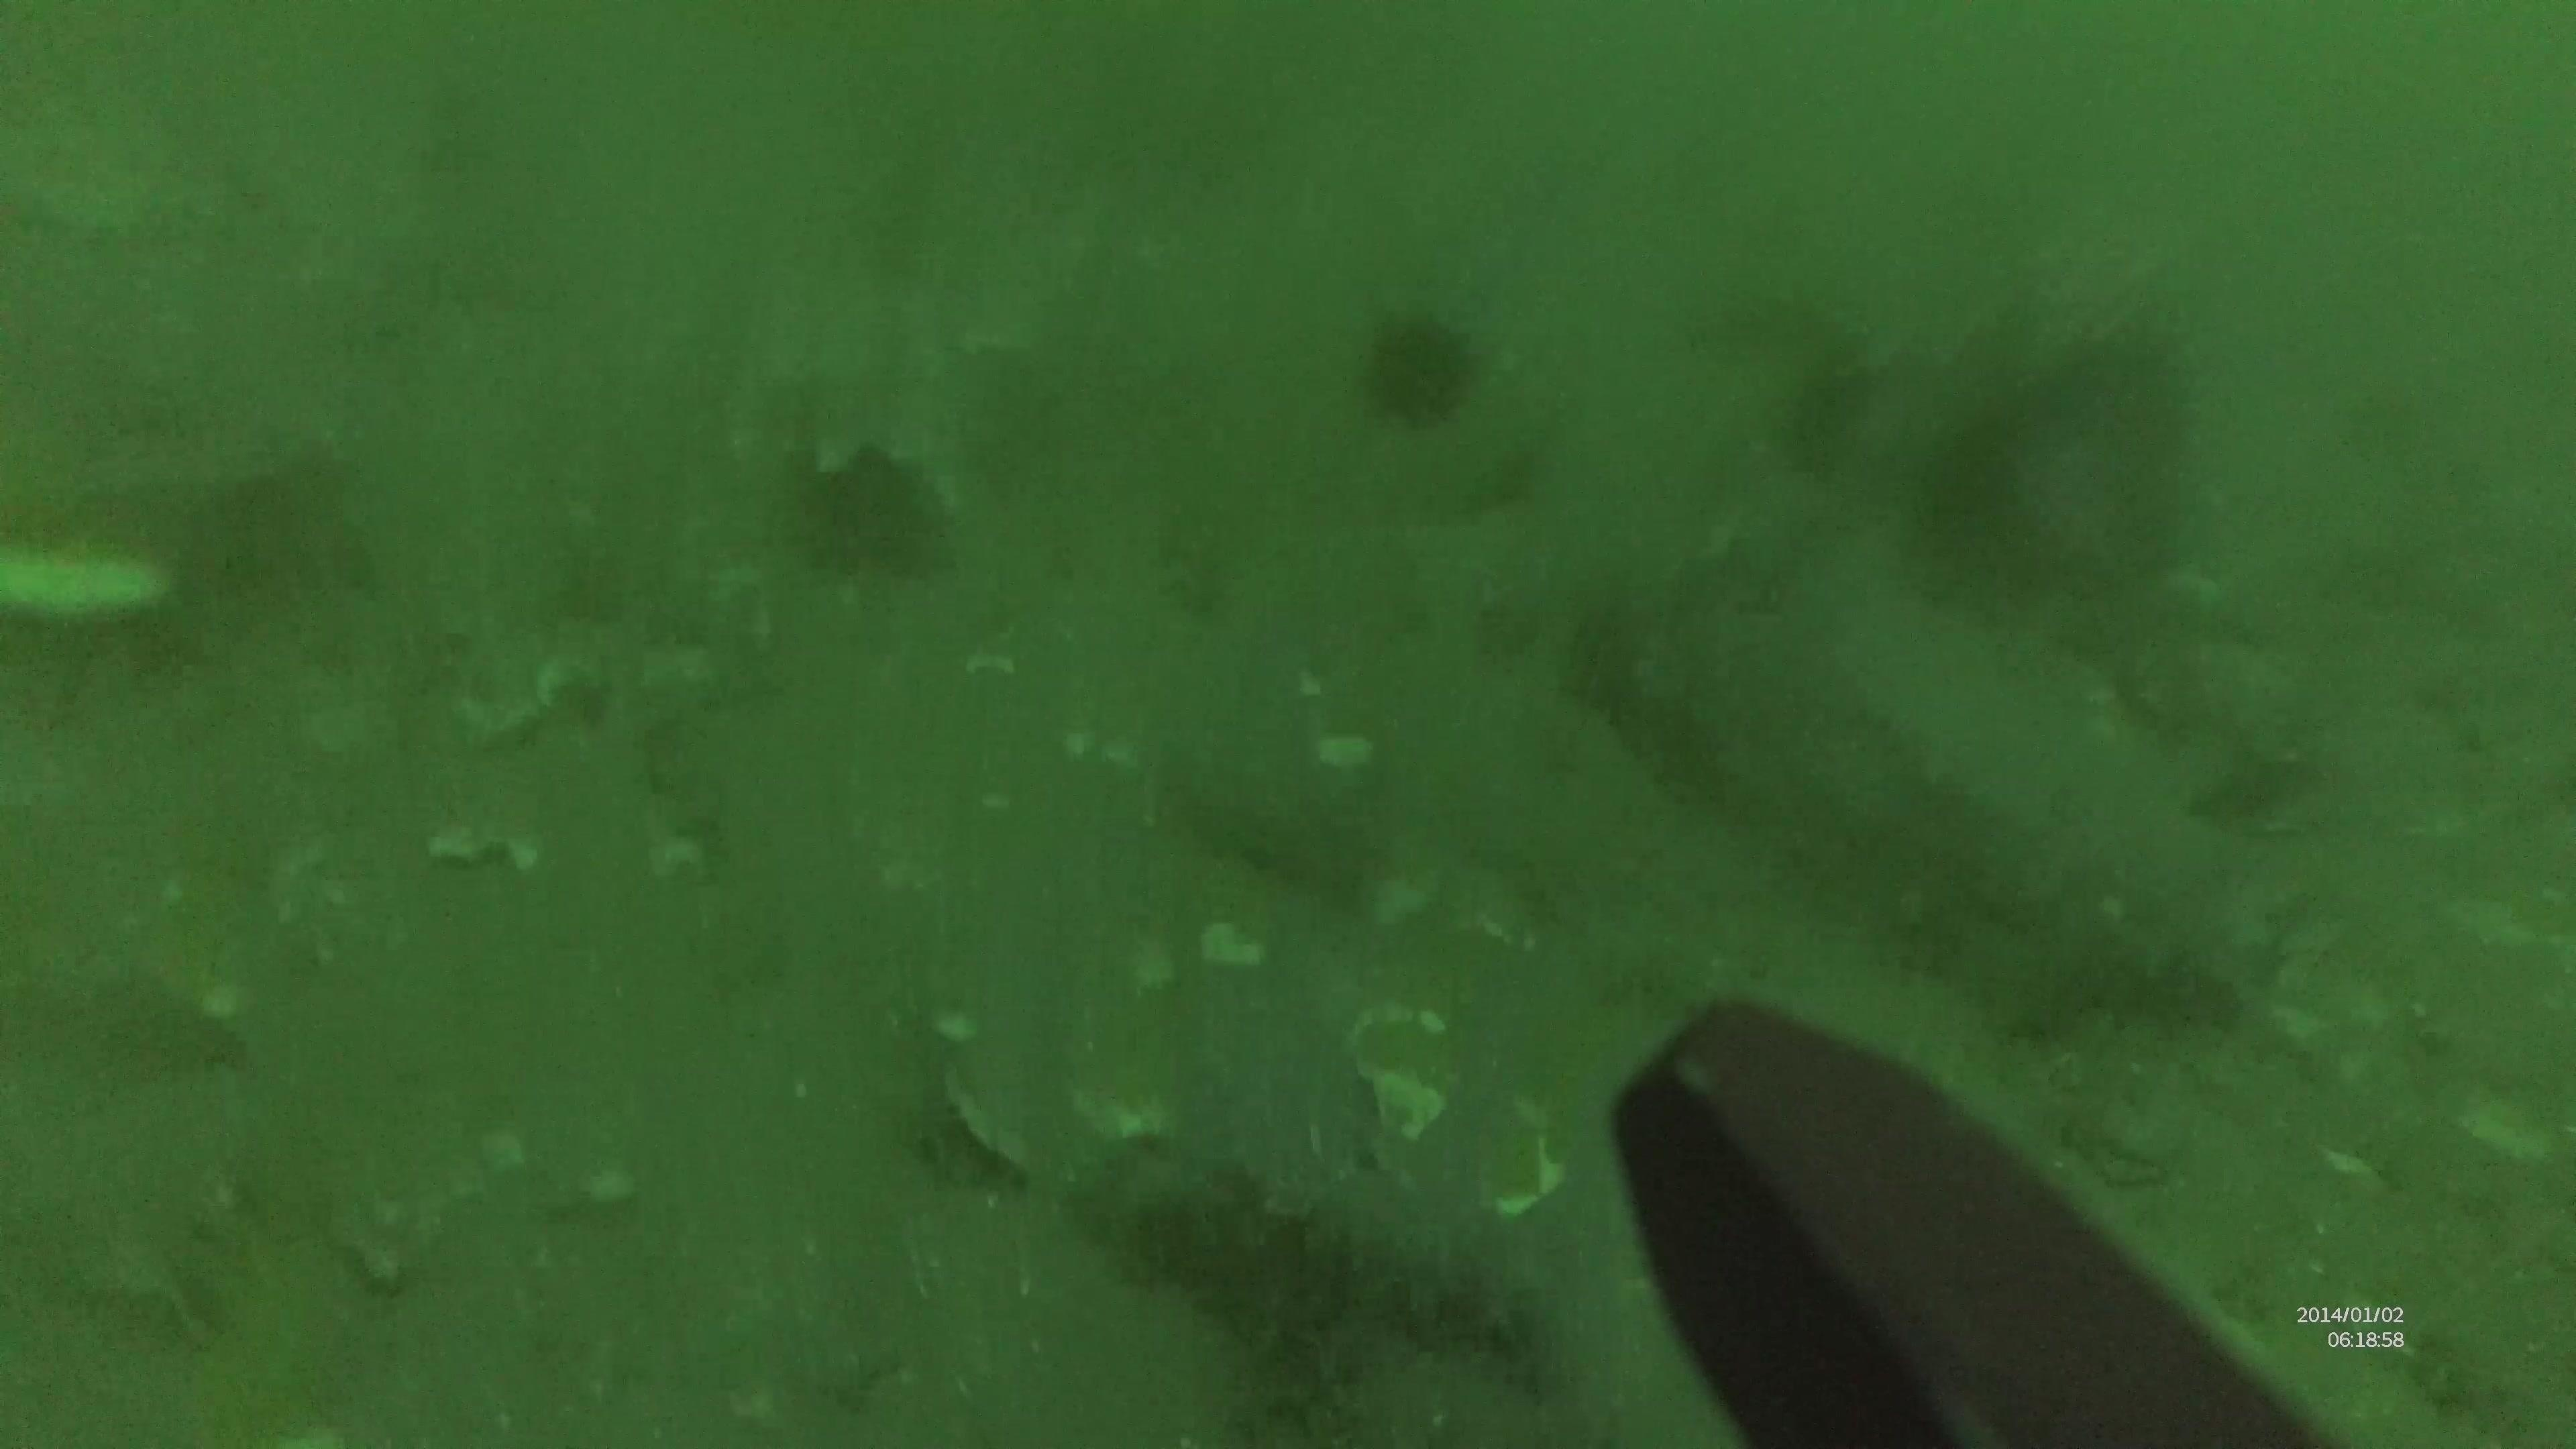echinus: (1355, 303, 1484, 433)
holothurian: (1085, 1139, 1560, 1415)
